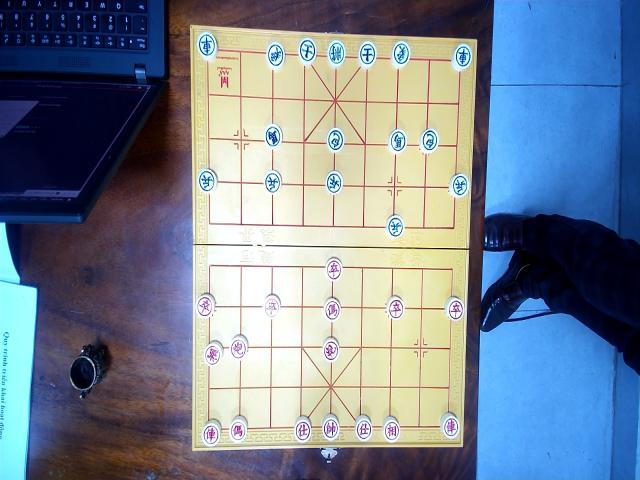piece: (451, 42, 473, 70), (228, 415, 248, 444), (197, 31, 217, 60), (326, 39, 346, 67), (448, 172, 469, 198), (439, 412, 459, 439), (202, 419, 222, 446), (202, 341, 222, 368), (390, 41, 410, 68), (266, 42, 285, 70), (298, 37, 317, 64), (294, 414, 312, 442), (444, 296, 464, 321), (418, 128, 438, 153), (354, 415, 373, 441), (382, 415, 400, 442), (264, 123, 282, 150), (196, 292, 214, 318), (230, 334, 248, 360), (322, 336, 340, 362), (358, 40, 376, 66), (322, 414, 339, 441), (388, 128, 406, 153), (198, 168, 216, 193), (324, 170, 342, 195), (324, 257, 342, 281), (386, 295, 404, 319), (386, 214, 404, 238), (326, 127, 344, 151), (324, 297, 341, 322), (264, 294, 280, 318), (264, 170, 280, 194)
